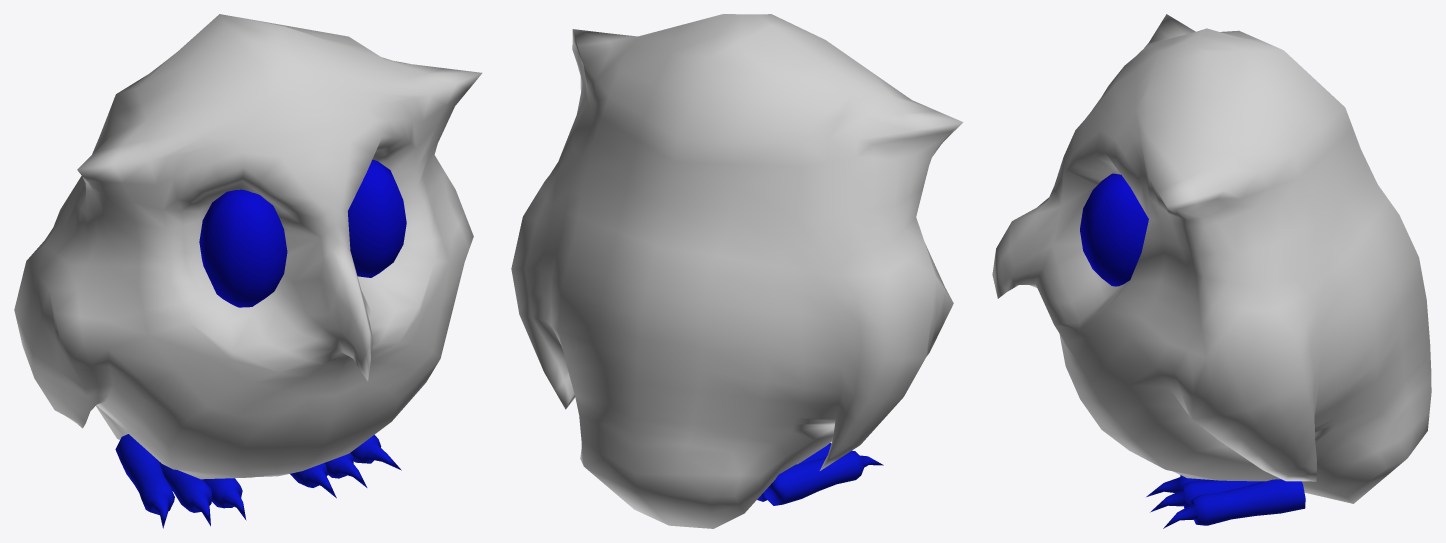
File: pööööööllö.fbx
3 renders of one model, left to right at view 1: azimuth 30°, elevation 25°; view 2: azimuth 150°, elevation 25°; view 3: azimuth 270°, elevation 25°, orthographic. The views are drawn at different scales.
Visible parts, largest first — view 1: LowPolyOwl, LowPolyEyes, LowPolyFeet; view 2: LowPolyOwl, LowPolyFeet; view 3: LowPolyOwl, LowPolyEyes, LowPolyFeet.
Part boxes in pixels (x1=…): LowPolyOwl: x1=14, y1=14, x2=482, y2=479; LowPolyEyes: x1=199, y1=159, x2=406, y2=307; LowPolyFeet: x1=115, y1=434, x2=401, y2=528; LowPolyOwl: x1=511, y1=14, x2=963, y2=528; LowPolyFeet: x1=757, y1=443, x2=883, y2=505; LowPolyOwl: x1=992, y1=14, x2=1431, y2=503; LowPolyEyes: x1=1080, y1=173, x2=1148, y2=286; LowPolyFeet: x1=1146, y1=475, x2=1305, y2=528.
Size of the model in its own units: 52.05 by 55.89 by 49.73.
